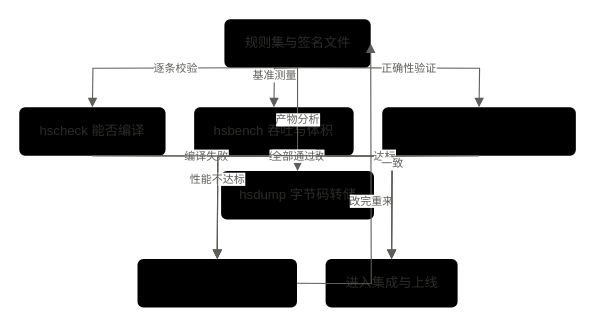
This 595x327 diagram has some shape labels left out. The centre of each missing label's shape, as x and y in pixels:
hscollider 与 PCRE 对拍: the point at 478,131
修复规则或调整参数: the point at 216,282
